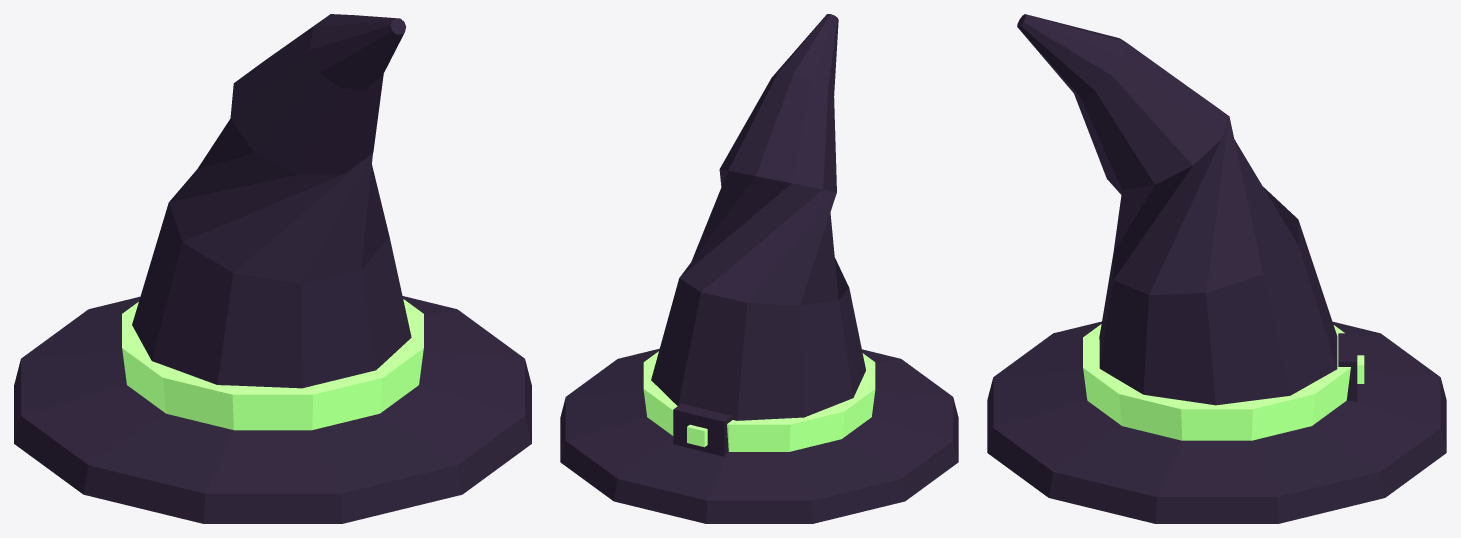
The model's file is Witch_Hat_own.gltf.
3 views of the same model, side by side, from view 1: azimuth 30°, elevation 25°; view 2: azimuth 150°, elevation 25°; view 3: azimuth 270°, elevation 25° (orthographic). The views are drawn at different scales.
Visible parts, largest first — view 1: Witch_Hat_own; view 2: Witch_Hat_own; view 3: Witch_Hat_own.
Boxes of the visible parts, x1=… form: Witch_Hat_own: x1=14, y1=14, x2=531, y2=523; Witch_Hat_own: x1=560, y1=14, x2=958, y2=523; Witch_Hat_own: x1=987, y1=14, x2=1446, y2=523.
Bounding box in the file's own units: 0.5834 × 0.5862 × 0.5834.
